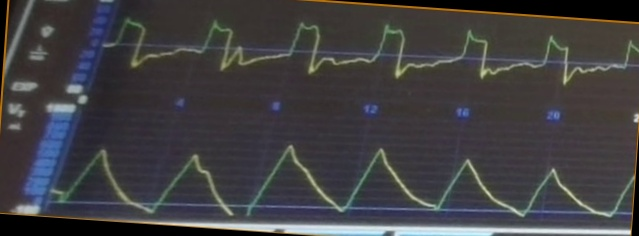Premature_cycling Flow: (111, 16, 638, 95)
Premature_cycling Volume: (65, 139, 630, 217)
